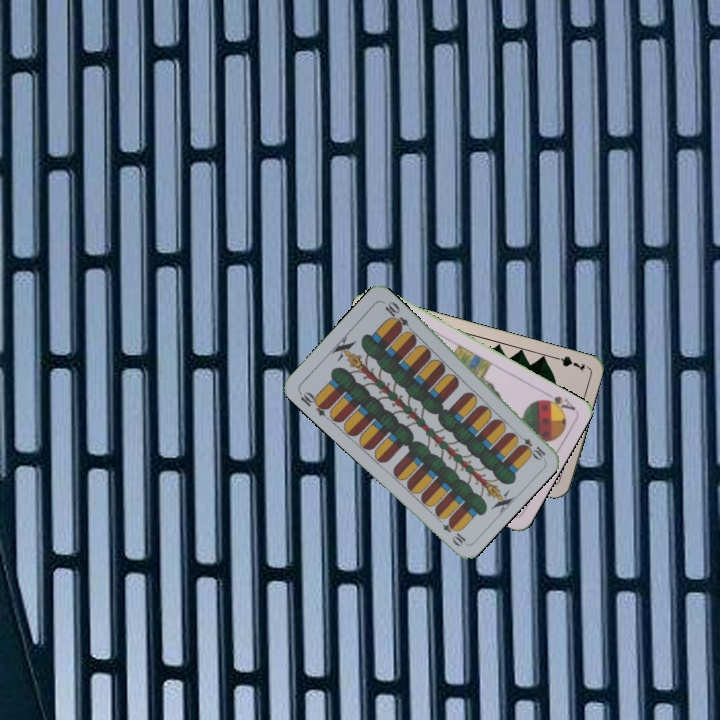E10: (512, 429, 548, 462), (295, 387, 332, 419)
G7: (548, 352, 588, 374)
SA: (537, 388, 578, 414)
